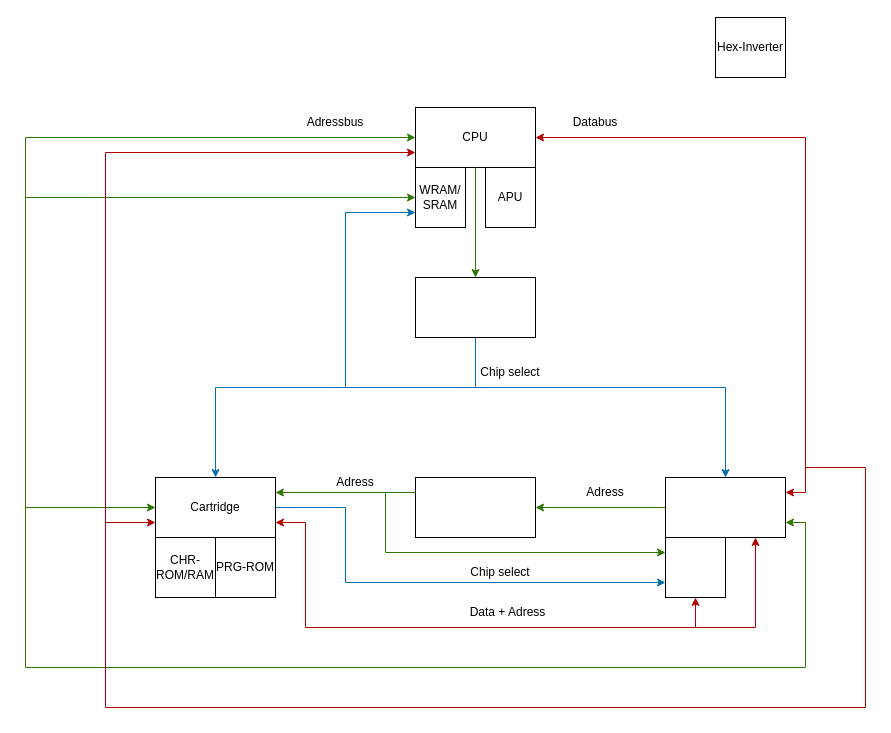
This 891x733 diagram has some shape labels left out. The centre of each missing label's shape, as x and y in pixels:
74LS139 discrete logic: (475,307)
74LS373 Latch: (475,507)
PPU: (725,507)
VRAM: (695,567)
